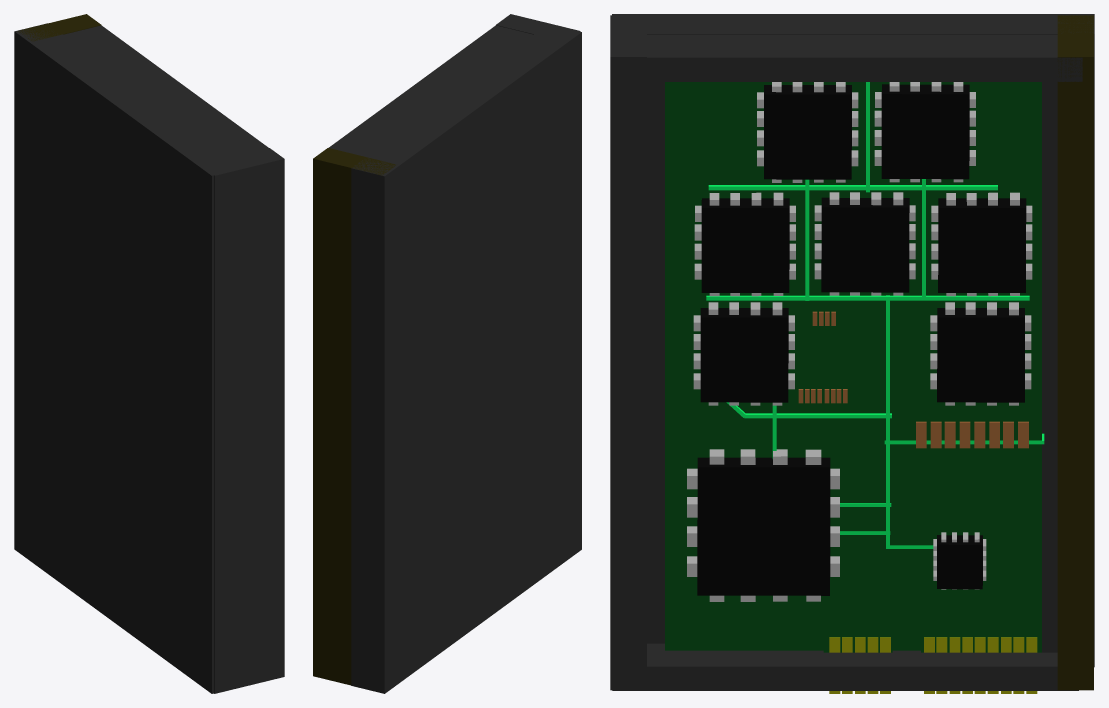
Rendered from SSD.gltf.
3 views of the same model, side by side, from view 1: azimuth 30°, elevation 25°; view 2: azimuth 150°, elevation 25°; view 3: azimuth 270°, elevation 25° (orthographic). The views are drawn at different scales.
Parts seen in each view (by area): view 1: Cube, Cube.001, Cube.003, Cube.002; view 2: Cube, Cube.002, Cube.003, Cube.001; view 3: Cube.005, Cube, Cube.002, Cube.001, Cube.003, Cube.130, Cube.021, Cube.141, Cube.062, Cube.096, Cube.079, Cube.045 (+5 smaller).
Part boxes in pixels (<box>): Cube: <box>14,23,238,693</box>; Cube.001: <box>201,148,284,693</box>; Cube.003: <box>64,25,268,157</box>; Cube.002: <box>18,14,101,41</box>; Cube: <box>351,24,581,693</box>; Cube.002: <box>313,148,395,685</box>; Cube.003: <box>329,25,532,156</box>; Cube.001: <box>496,14,580,41</box>; Cube.005: <box>665,82,1041,652</box>; Cube: <box>612,14,1094,667</box>; Cube.002: <box>1057,15,1093,690</box>; Cube.001: <box>610,15,646,690</box>; Cube.003: <box>624,34,1082,81</box>; Cube.130: <box>697,457,830,595</box>; Cube.021: <box>789,652,1078,690</box>; Cube.141: <box>881,84,969,179</box>; Cube.062: <box>821,197,909,292</box>; Cube.096: <box>700,308,788,402</box>; Cube.079: <box>701,198,789,292</box>; Cube.045: <box>938,198,1026,292</box>.
Bounding box in the file's own units: 0.5123 × 3.63 × 2.44.
